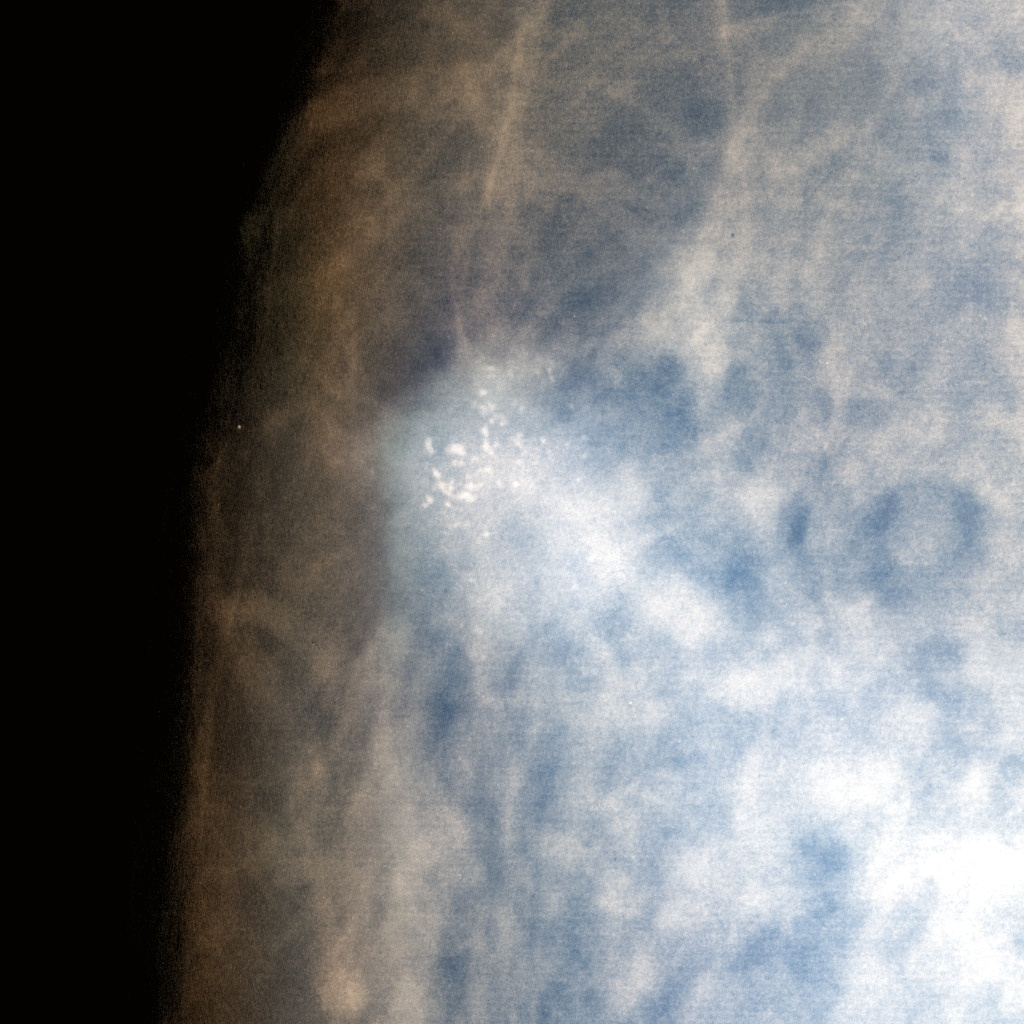tumor: (399, 359, 625, 665)
